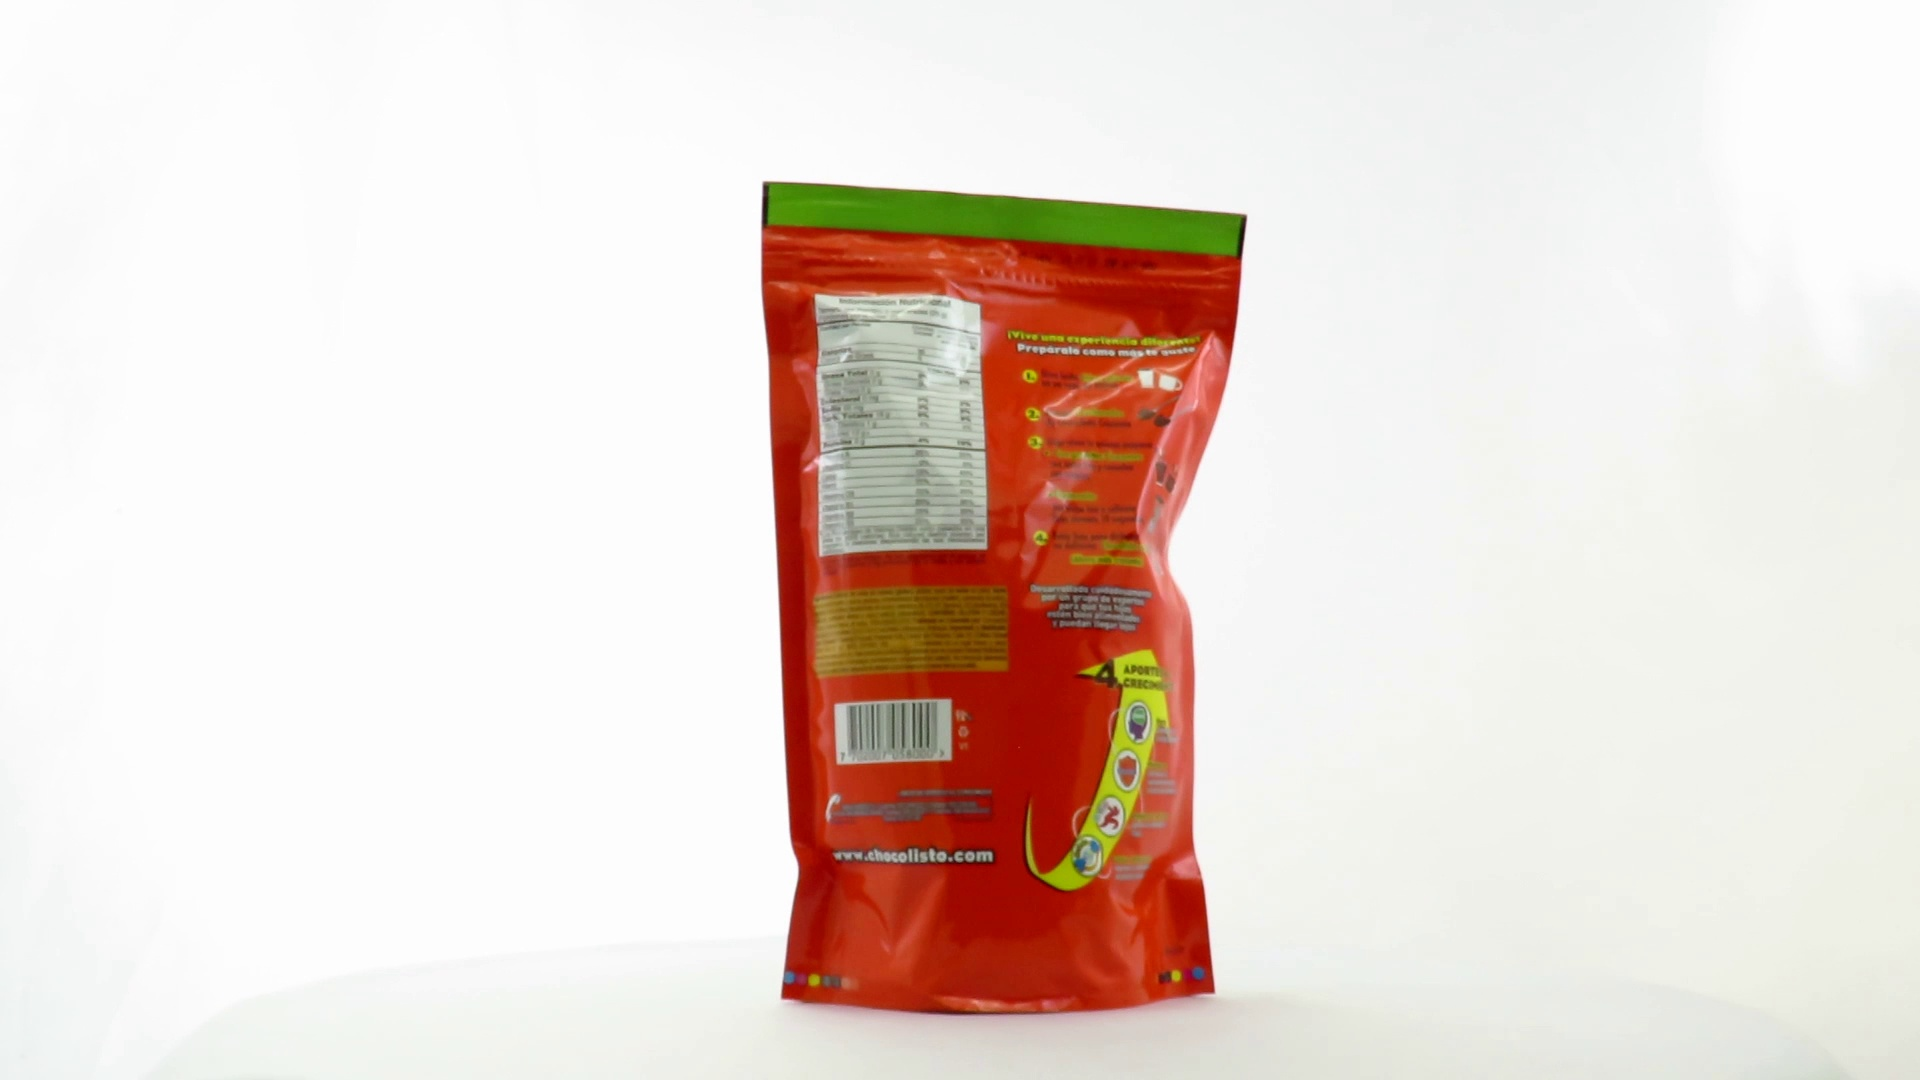COL0170102DYP50000: (756, 175, 1253, 1022)
